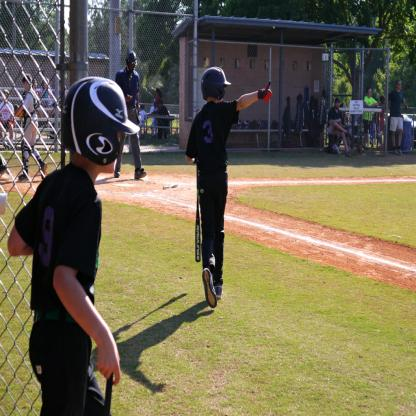Helmet: (67, 74, 139, 178), (201, 68, 232, 100), (124, 51, 136, 69)
